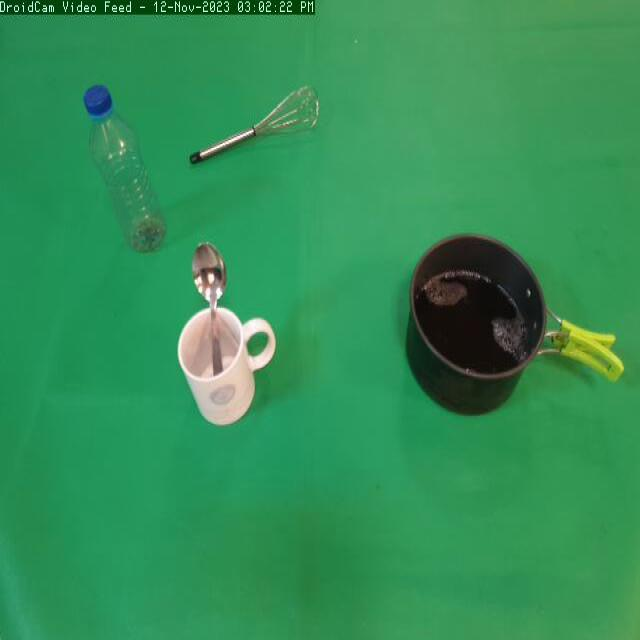bottle: (80, 73, 174, 264)
cup: (177, 305, 276, 431)
fullpot: (398, 230, 628, 424)
spoon: (188, 236, 232, 382)
whisk: (179, 81, 326, 178)
